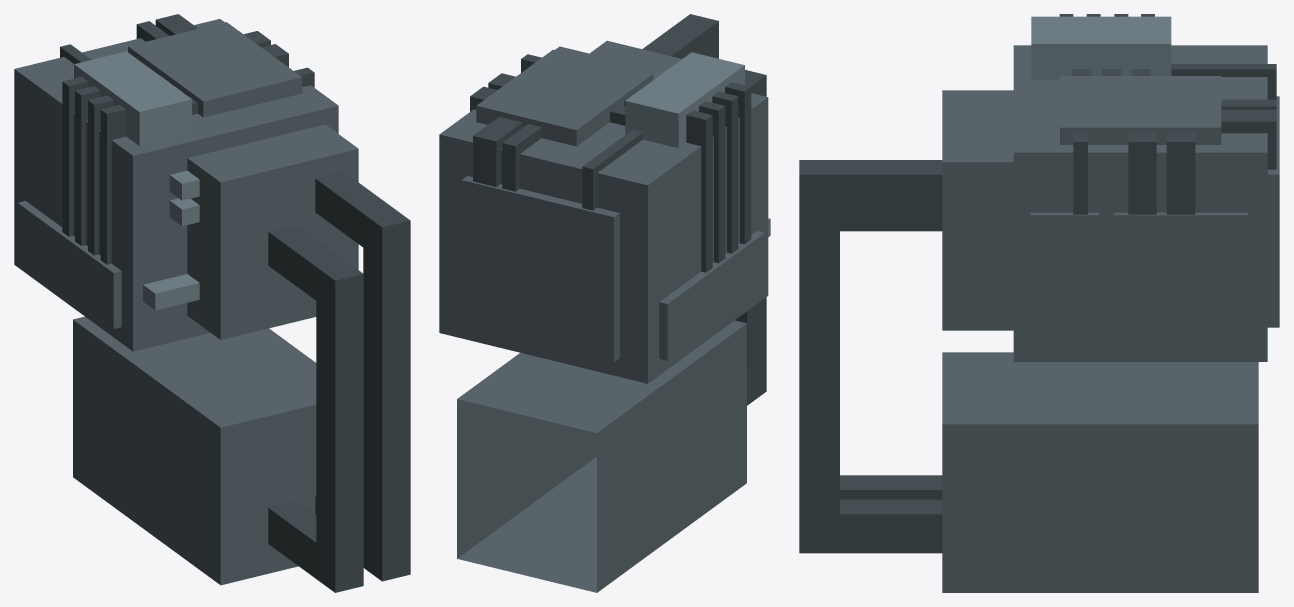
File: Border 01.FBX
3 renders of one model, left to right at view 1: azimuth 30°, elevation 25°; view 2: azimuth 150°, elevation 25°; view 3: azimuth 270°, elevation 25°, orthographic. The views are drawn at different scales.
Parts seen in each view (by area): view 1: Border 01; view 2: Border 01; view 3: Border 01.
Part boxes in pixels (x1,y1,x2,y2): Border 01: (14, 14, 410, 592); Border 01: (439, 14, 770, 592); Border 01: (799, 14, 1279, 592).
Bounding box in the file's own units: 533 × 1051 × 946.
